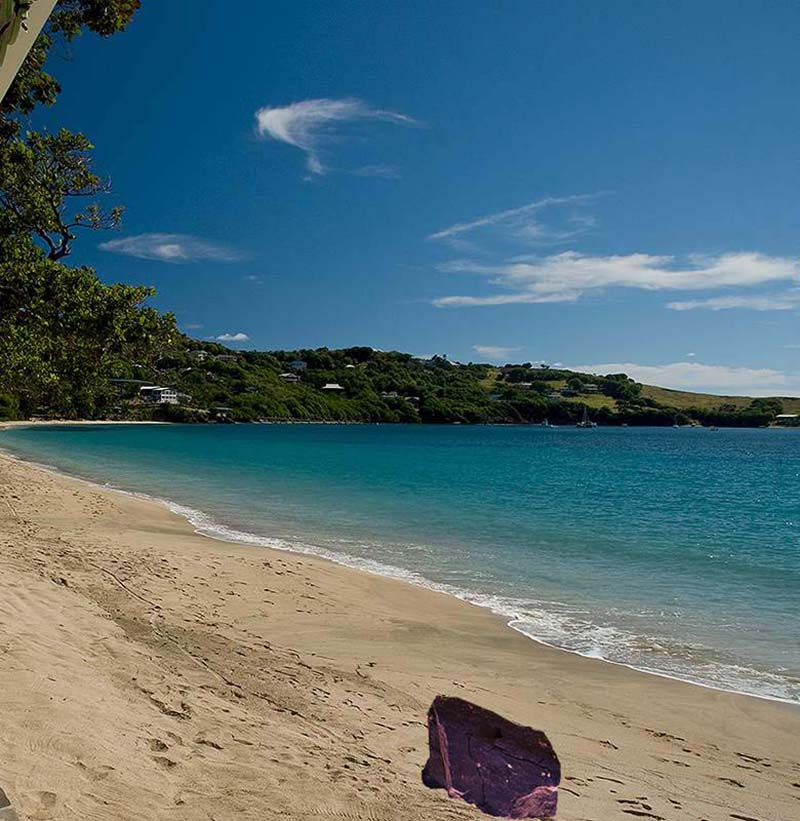Rocks: (410, 688, 569, 821)
